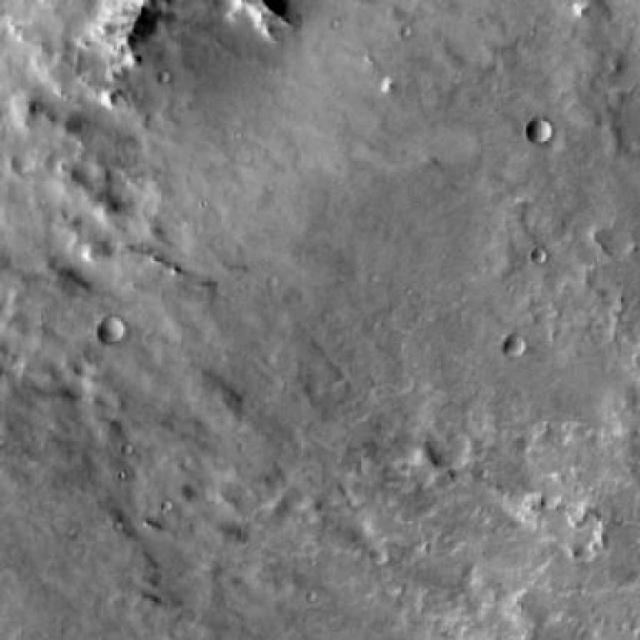crater: (100, 318, 126, 344), (527, 119, 551, 144), (505, 337, 524, 355)
